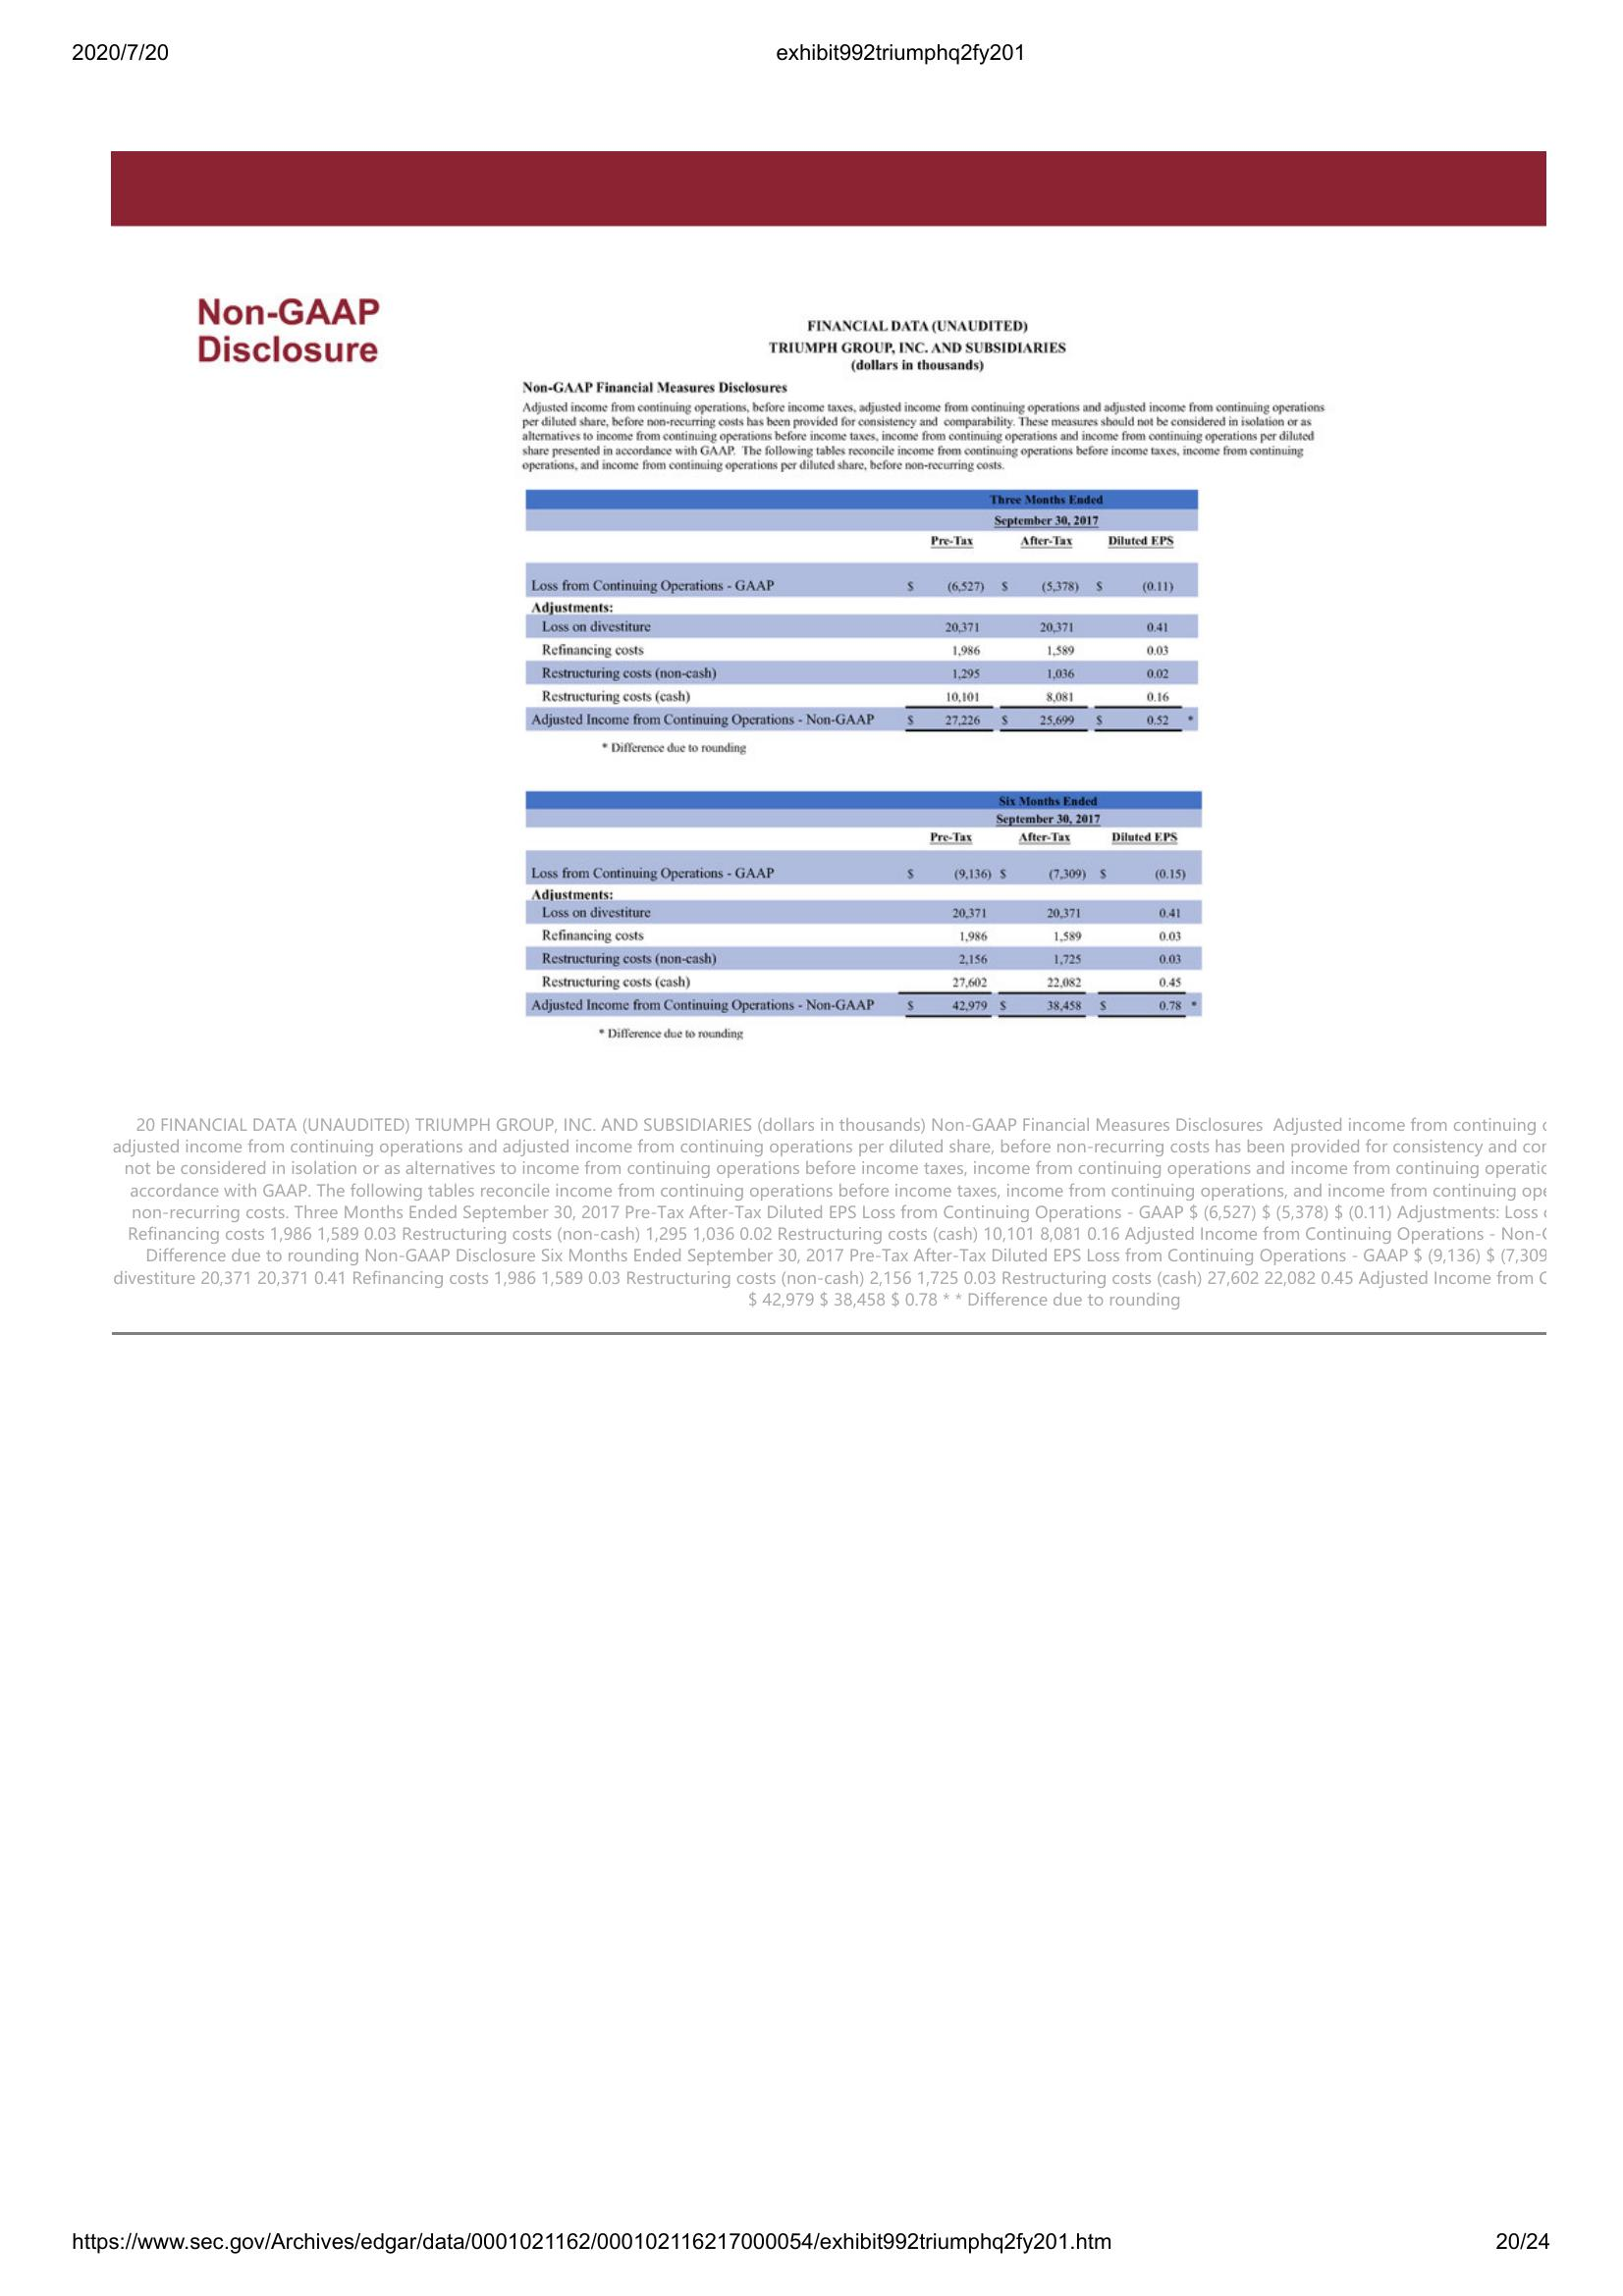table: (518, 483, 1200, 741), (522, 785, 1210, 1030)
